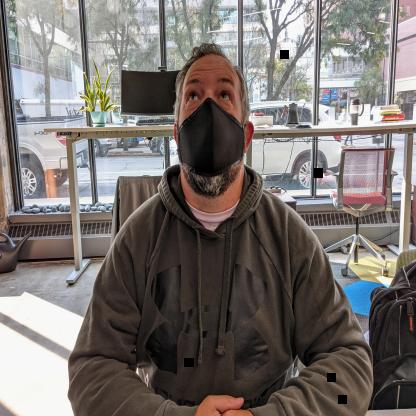mask: (176, 63, 249, 196)
